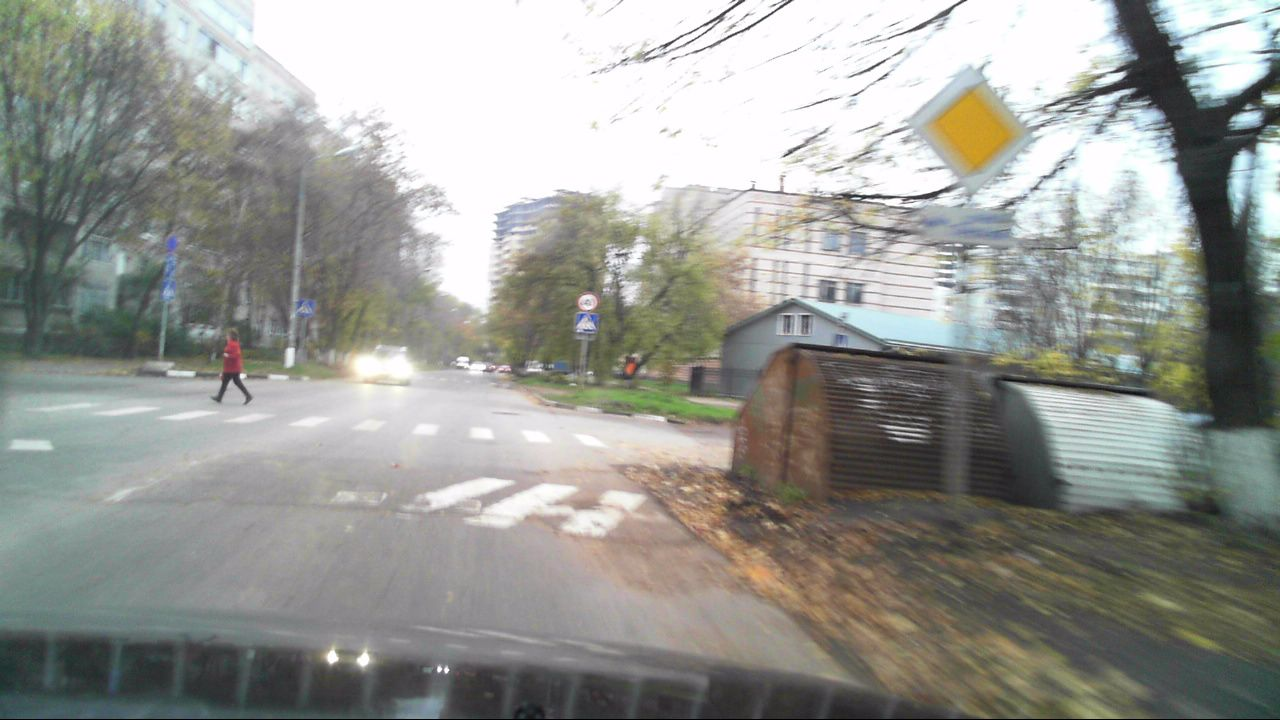speed_warning_40: (576, 292, 596, 311)
